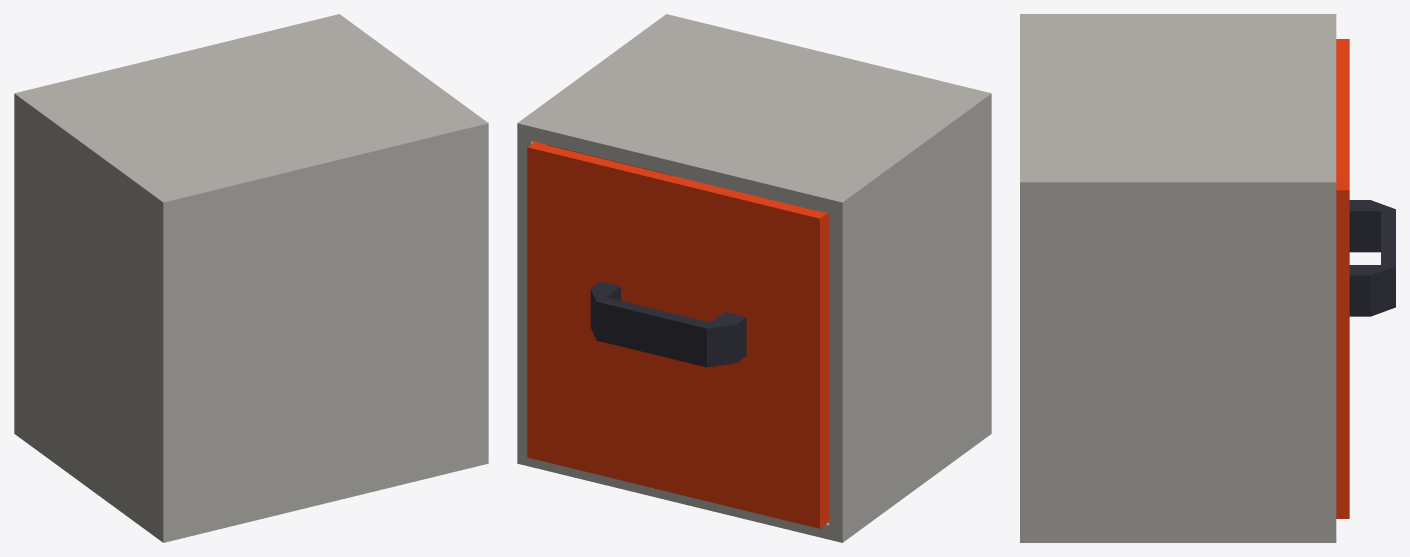
Rendered from FileDrawer.fbx.
The picture shows the model from 3 angles, left to right: view 1: azimuth 30°, elevation 25°; view 2: azimuth 150°, elevation 25°; view 3: azimuth 270°, elevation 25°; orthographic projection. The views are drawn at different scales.
Parts seen in each view (by area): view 1: FileDrawer; view 2: FileDrawer, SlideableDraw; view 3: FileDrawer, SlideableDraw.
Boxes of the visible parts, x1,y1,x2,y2 form: FileDrawer: (14,14,488,542); FileDrawer: (517,14,991,542); SlideableDraw: (527,142,828,528); FileDrawer: (1020,14,1336,542); SlideableDraw: (1336,39,1395,518).
Size of the model in its own units: 0.5955 by 0.5955 by 0.5621.
